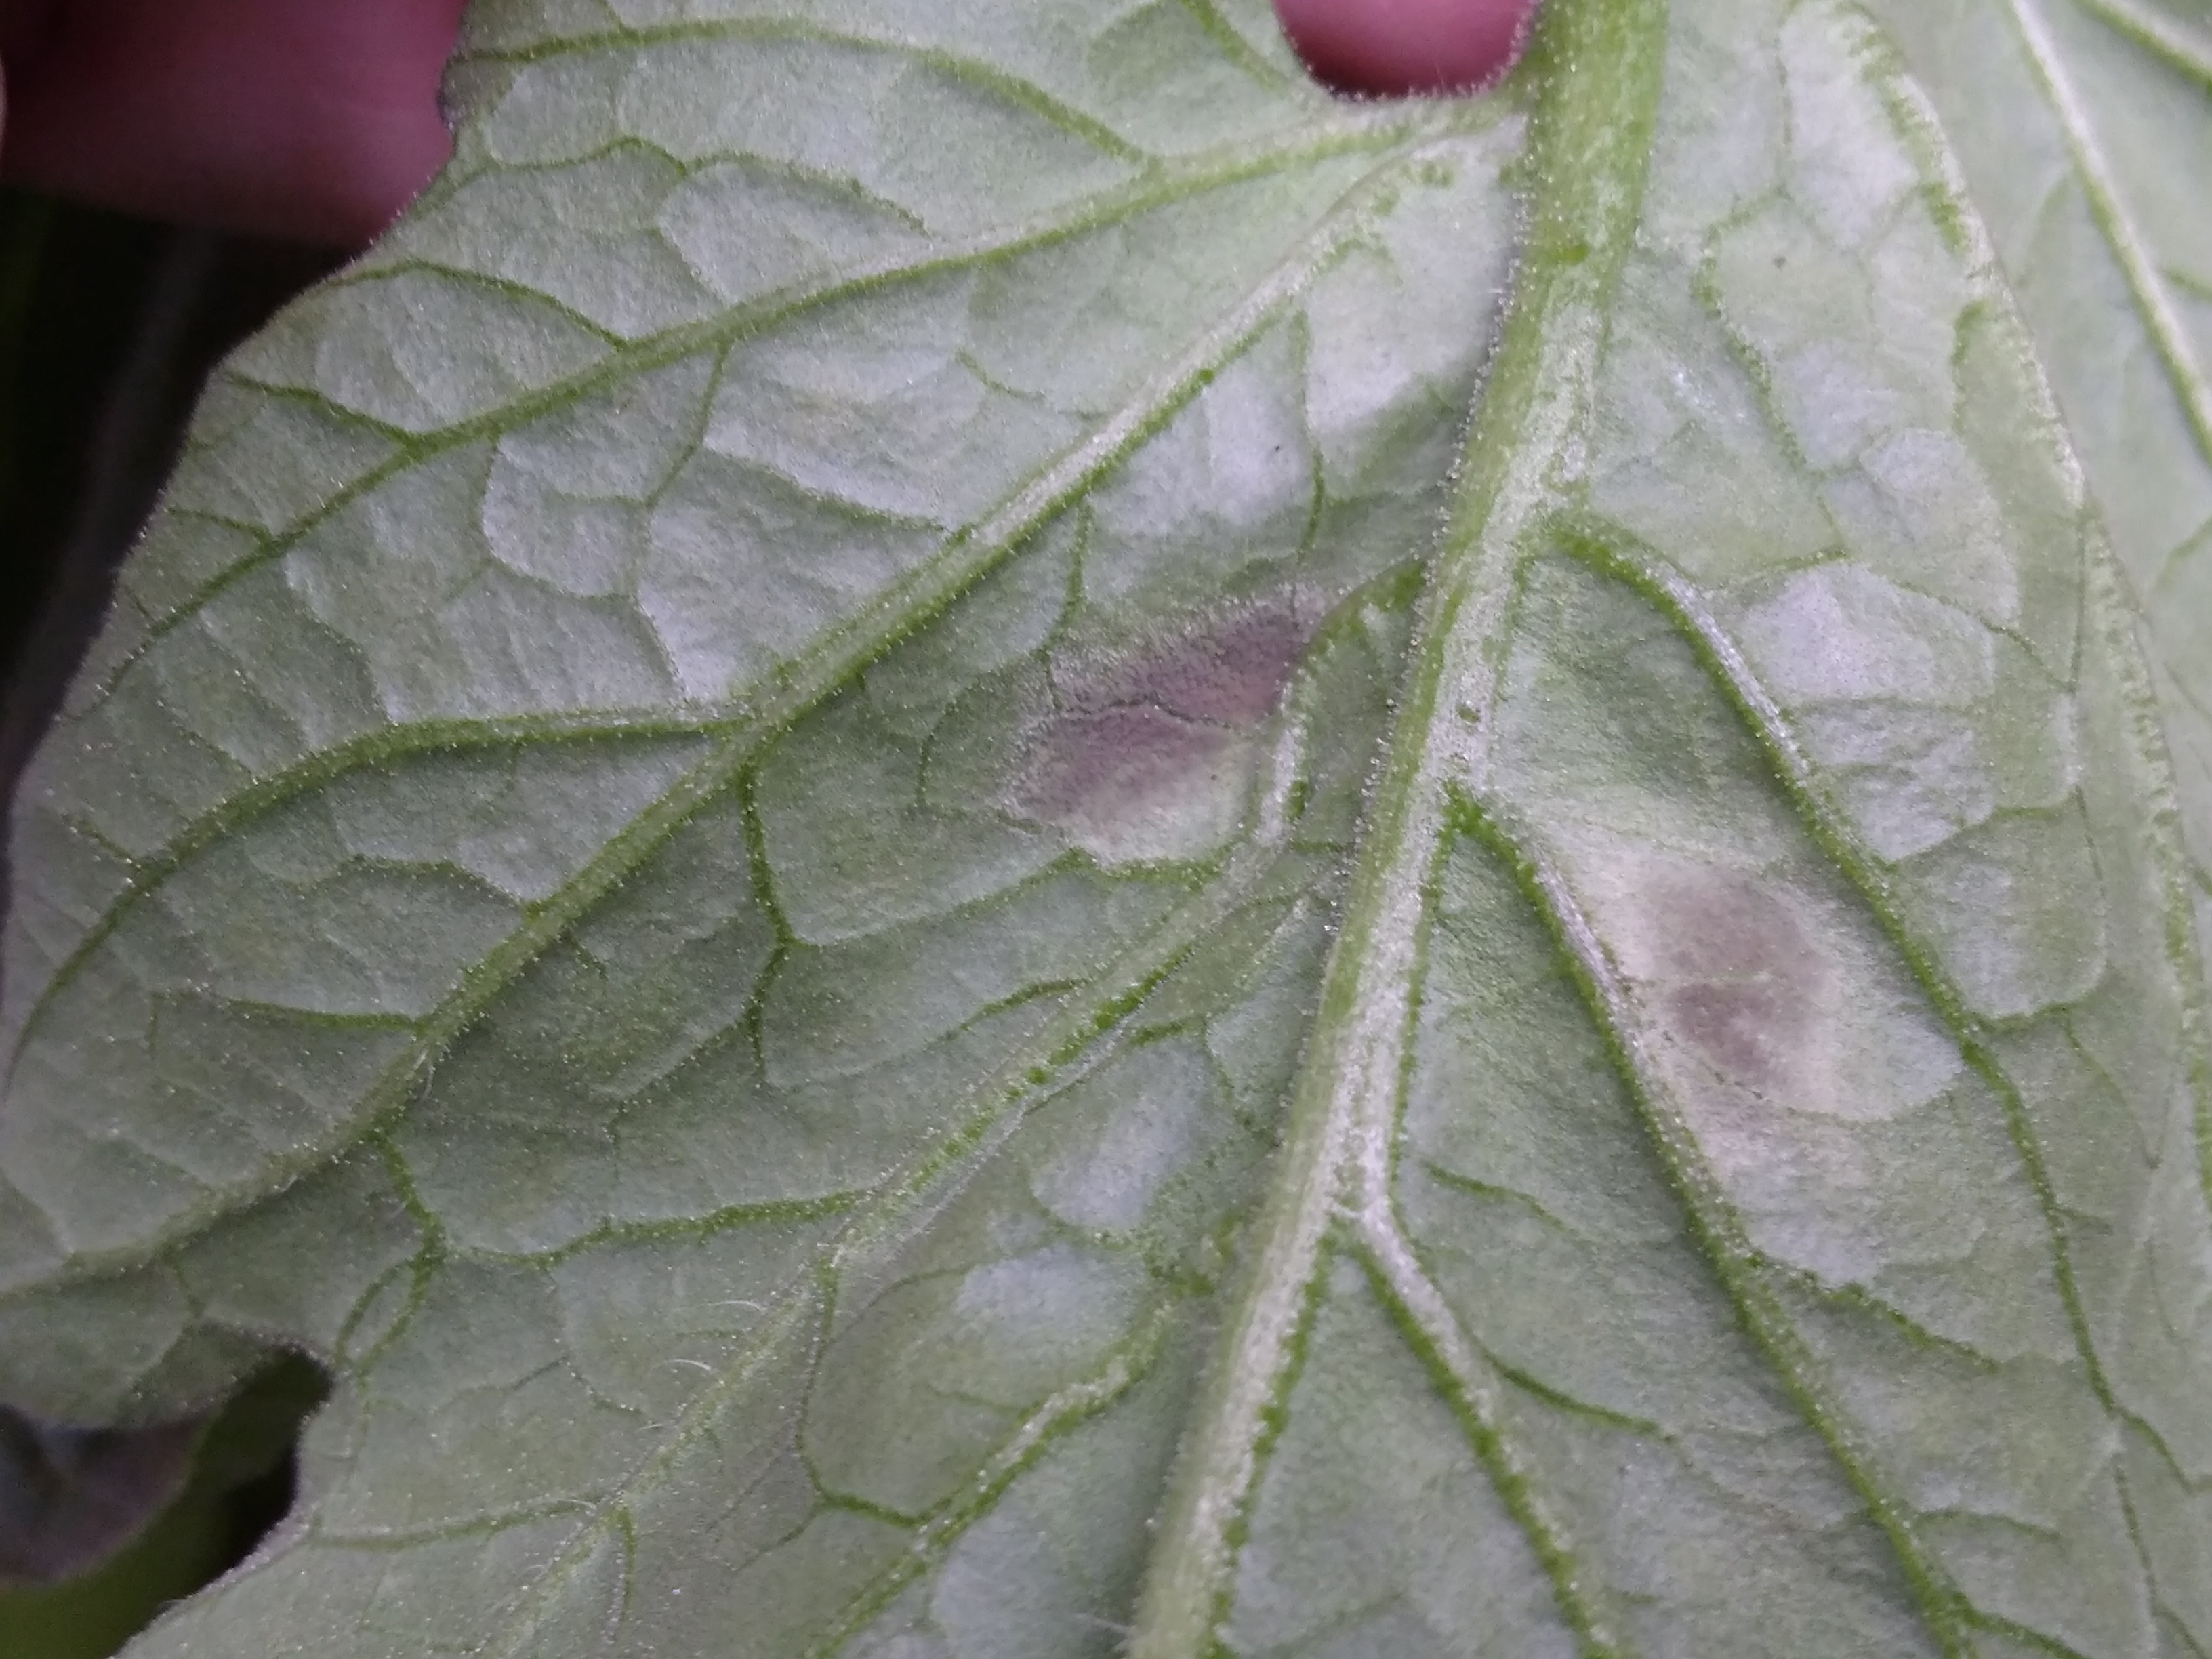negra: (1001, 552, 1322, 835), (1627, 859, 1844, 1091)
